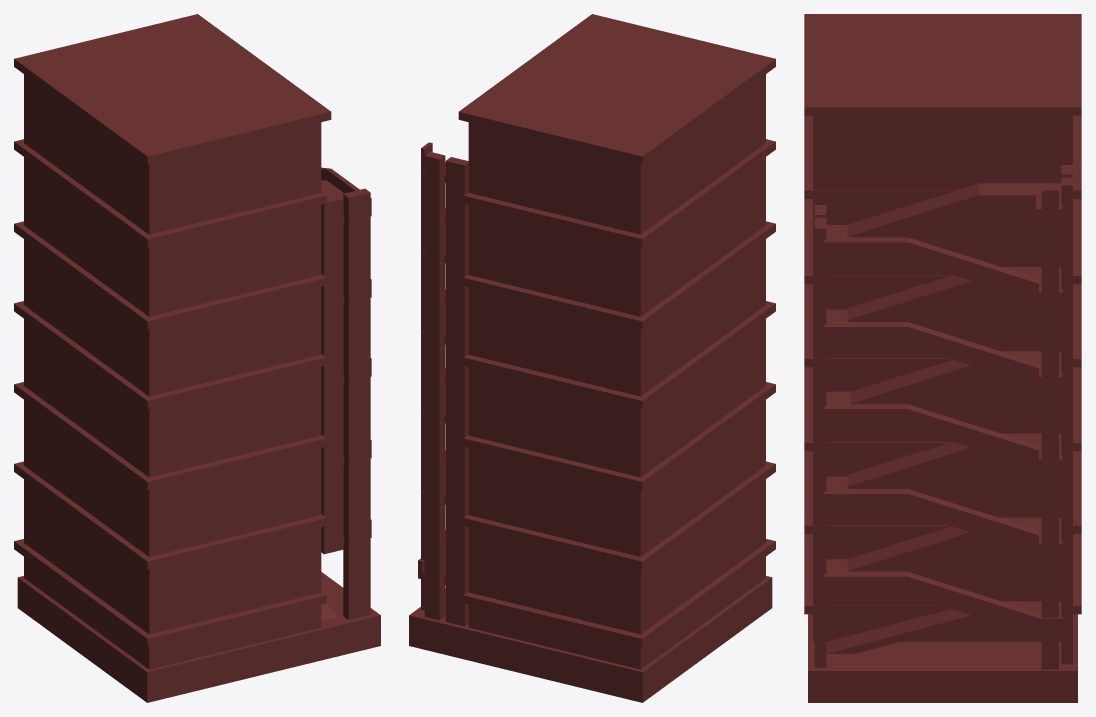
File: buinding2_new.fbx
The picture shows the model from 3 angles, left to right: view 1: azimuth 30°, elevation 25°; view 2: azimuth 150°, elevation 25°; view 3: azimuth 270°, elevation 25°; orthographic projection. The views are drawn at different scales.
Parts seen in each view (by area): view 1: polySurface28; view 2: polySurface28; view 3: polySurface28.
Part boxes in pixels (<box>): polySurface28: <box>14,14,380,702</box>; polySurface28: <box>409,14,775,702</box>; polySurface28: <box>804,14,1081,702</box>.
Size of the model in its own units: 9.05 by 20.15 by 8.9.
